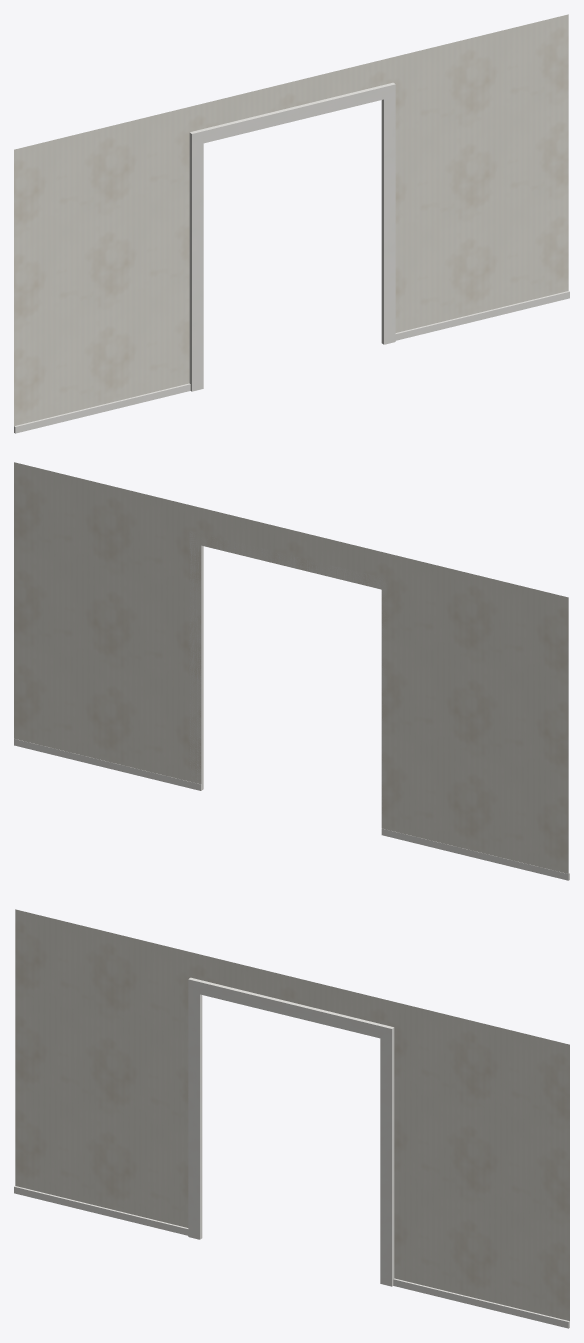
Rendered from wall_gate.gltf.
3 renders of one model, top to bottom at view 1: azimuth 30°, elevation 25°; view 2: azimuth 150°, elevation 25°; view 3: azimuth 330°, elevation 25°, orthographic.
Visible parts, largest first — view 1: jx_w_gate; view 2: jx_w_gate; view 3: jx_w_gate.
Boxes of the visible parts, box(x1,y1,x2,y2) form: jx_w_gate: box(14, 14, 569, 433); jx_w_gate: box(14, 462, 569, 880); jx_w_gate: box(14, 909, 569, 1328).
Bounding box in the file's own units: 12.3 × 6 × 0.095.
2 materials, 2 textured.
